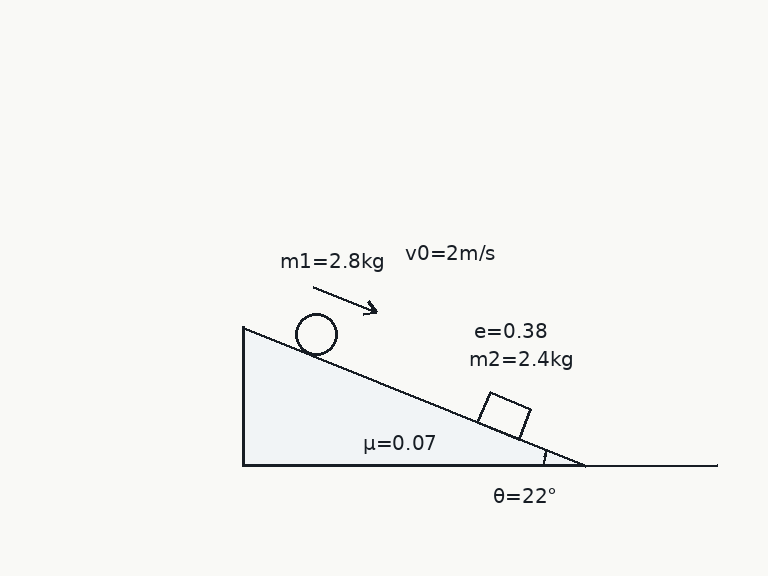ball: (293, 311, 339, 357)
block: (475, 390, 532, 440)
ramp: (241, 325, 586, 467)
